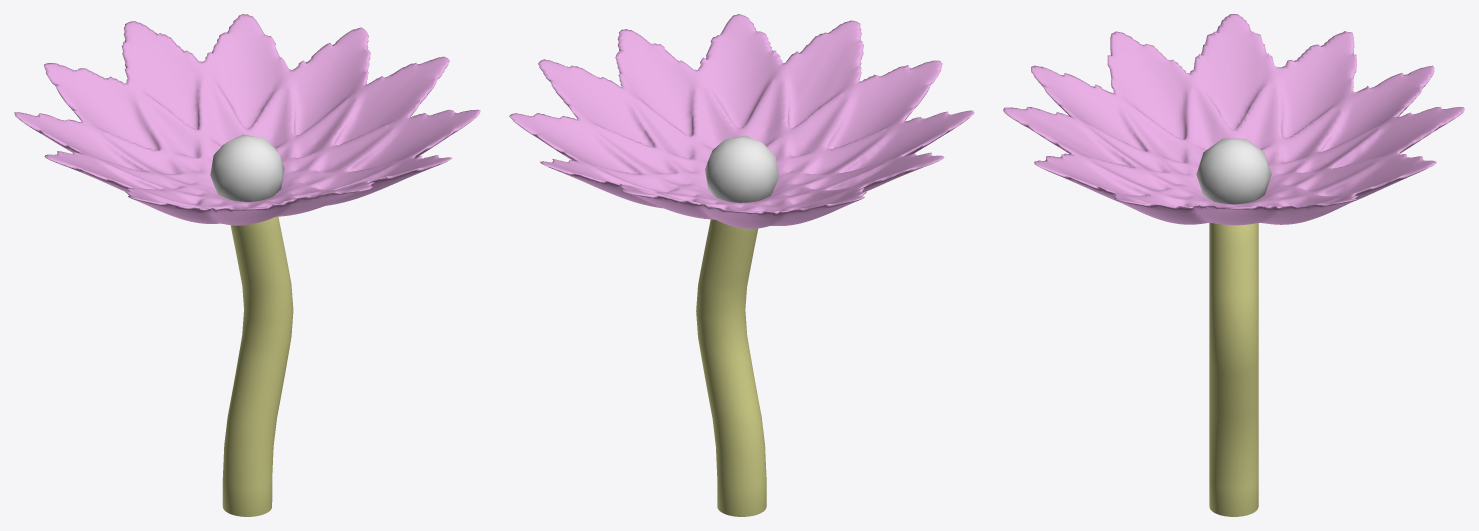
Rendered from FLower2.fbx.
3 renders of one model, left to right at view 1: azimuth 30°, elevation 25°; view 2: azimuth 150°, elevation 25°; view 3: azimuth 270°, elevation 25°, orthographic.
Visible parts, largest first — view 1: Plane.007, Cylinder.003, Icosphere.006; view 2: Plane.007, Cylinder.003, Icosphere.006; view 3: Plane.007, Cylinder.003, Icosphere.006.
Part boxes in pixels (box(x1,y1,x2,y2)): Plane.007: box(14, 14, 480, 225); Cylinder.003: box(222, 216, 293, 516); Icosphere.006: box(210, 134, 284, 201); Plane.007: box(509, 14, 974, 228); Cylinder.003: box(696, 219, 766, 516); Icosphere.006: box(705, 135, 778, 202); Plane.007: box(1003, 14, 1464, 225); Cylinder.003: box(1209, 223, 1258, 516); Icosphere.006: box(1196, 138, 1271, 204).
Size of the model in its own units: 348 by 332 by 348.
